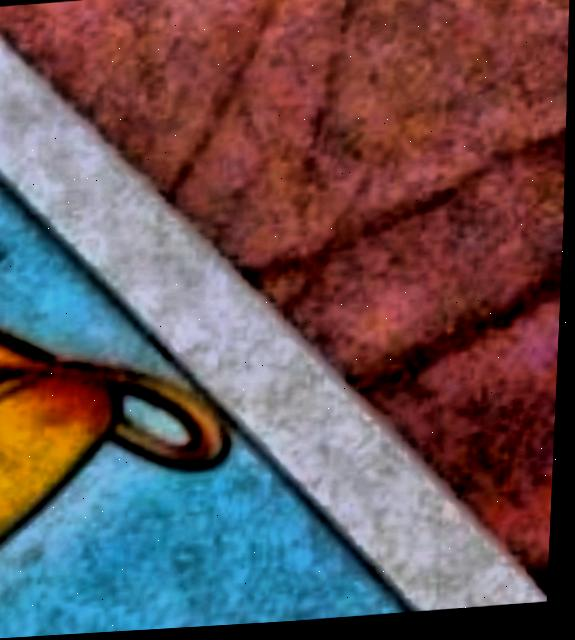El Cazo: (0, 169, 410, 639)
